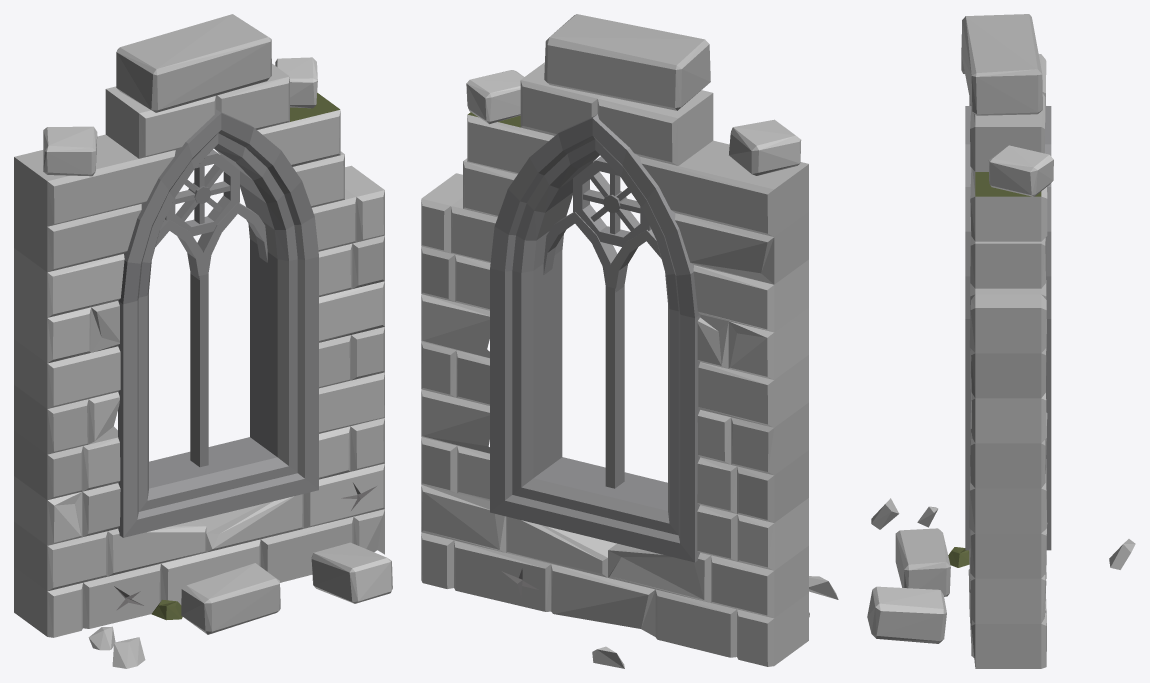
File: ruined-nave-wall-43d9a0.glb
3 views of the same model, side by side, from view 1: azimuth 30°, elevation 25°; view 2: azimuth 150°, elevation 25°; view 3: azimuth 270°, elevation 25° (orthographic). The views are drawn at different scales.
Size of the model in its own units: 3.1 by 4.8 by 2.16.
